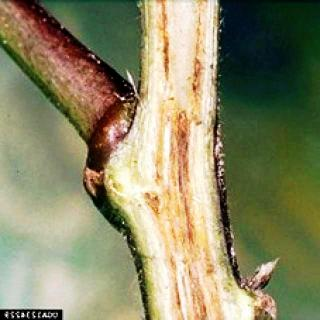wilt: (133, 12, 231, 320)
